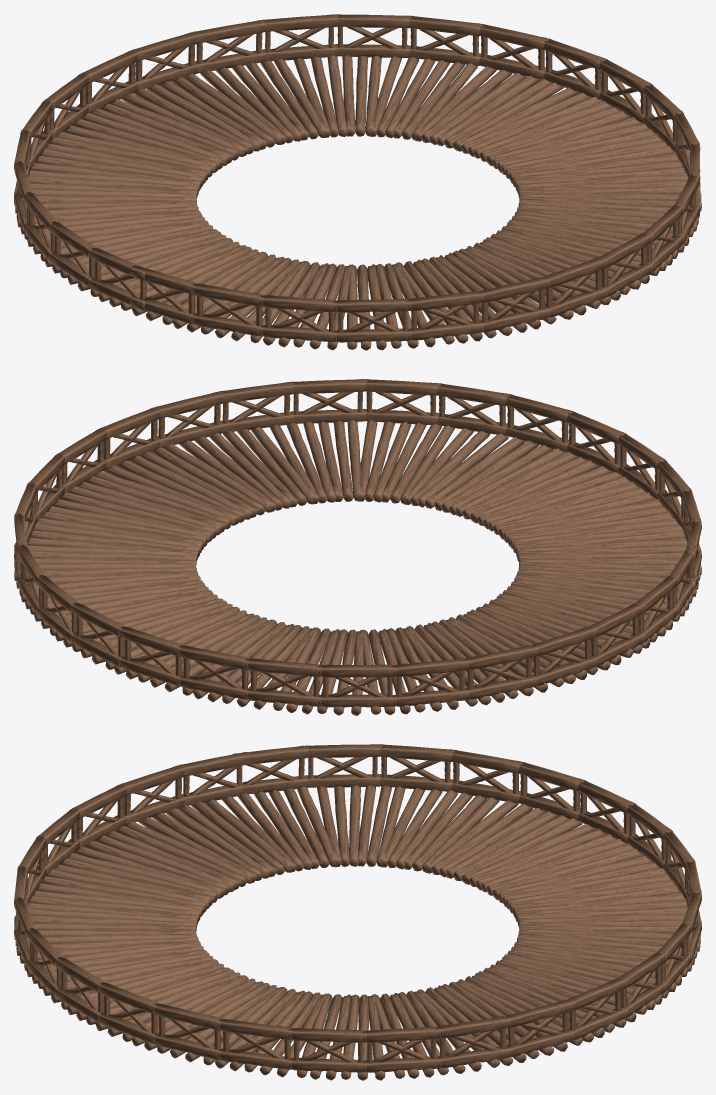
The model's file is SM_platform_hole_fenced.fbx.
The picture shows the model from 3 angles, top to bottom: view 1: azimuth 30°, elevation 25°; view 2: azimuth 150°, elevation 25°; view 3: azimuth 270°, elevation 25°; orthographic projection.
Parts seen in each view (by area): view 1: platform_hole_fenced; view 2: platform_hole_fenced; view 3: platform_hole_fenced.
Part boxes in pixels (left/top/right/bottom): platform_hole_fenced: left=14, top=14, right=701, bottom=350; platform_hole_fenced: left=14, top=379, right=701, bottom=715; platform_hole_fenced: left=14, top=744, right=701, bottom=1080.
Bounding box in the file's own units: 2118 × 159 × 2117.
